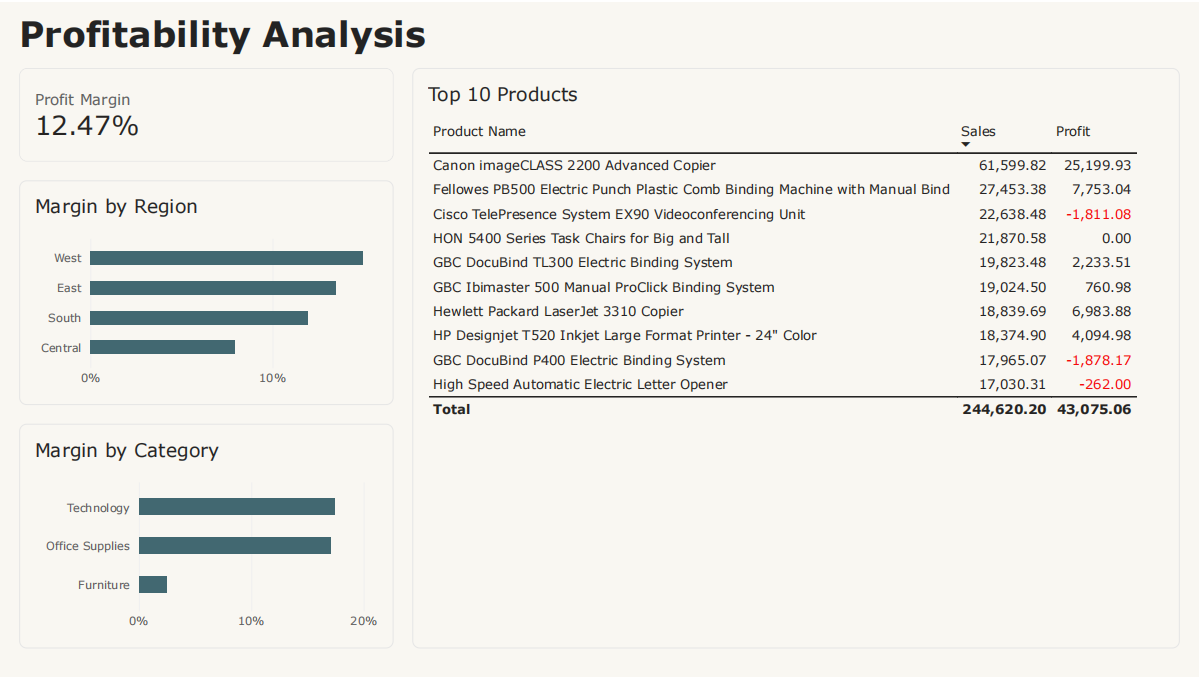

Layout of this report page (visuals, bound fields, positions):
{"tool":"powerbi","page":{"name":"Margins & Products","canvas":[1280,720],"ordinal":1},"visuals":[{"type":"textbox","box":[20,10,700,50],"z":0},{"type":"cardVisual","fields":{"Data":["Sample - Superstore.Profit Margin %"]},"box":[20,70,400,100],"z":1000},{"type":"clusteredBarChart","title":"Margin by Region","fields":{"Category":["Sample - Superstore.Region"],"Y":["Sample - Superstore.Profit Margin %"]},"box":[20,190,400,240],"z":2000},{"type":"clusteredBarChart","title":"Margin by Category","fields":{"Category":["Sample - Superstore.Category"],"Y":["Sample - Superstore.Profit Margin %"]},"box":[20,450,400,240],"z":3000},{"type":"tableEx","title":"Top 10 Products","fields":{"Values":["Sample - Superstore.Product Name","Sum(Sample - Superstore.Sales)","Sum(Sample - Superstore.Profit)"]},"box":[440,70,820,620],"z":4000}]}

Visuals, with their boxes in screenshot pixels (x1, y1, x2, y2), scaled from the page's 1280x720 canvas onto the 1201x679 screenshot:
textbox: (left=19, top=9, right=676, bottom=57)
cardVisual - Sample - Superstore.Profit Margin %: (left=19, top=66, right=394, bottom=160)
"Margin by Region" clusteredBarChart: (left=19, top=179, right=394, bottom=406)
"Margin by Category" clusteredBarChart: (left=19, top=424, right=394, bottom=651)
"Top 10 Products" tableEx: (left=413, top=66, right=1182, bottom=651)
